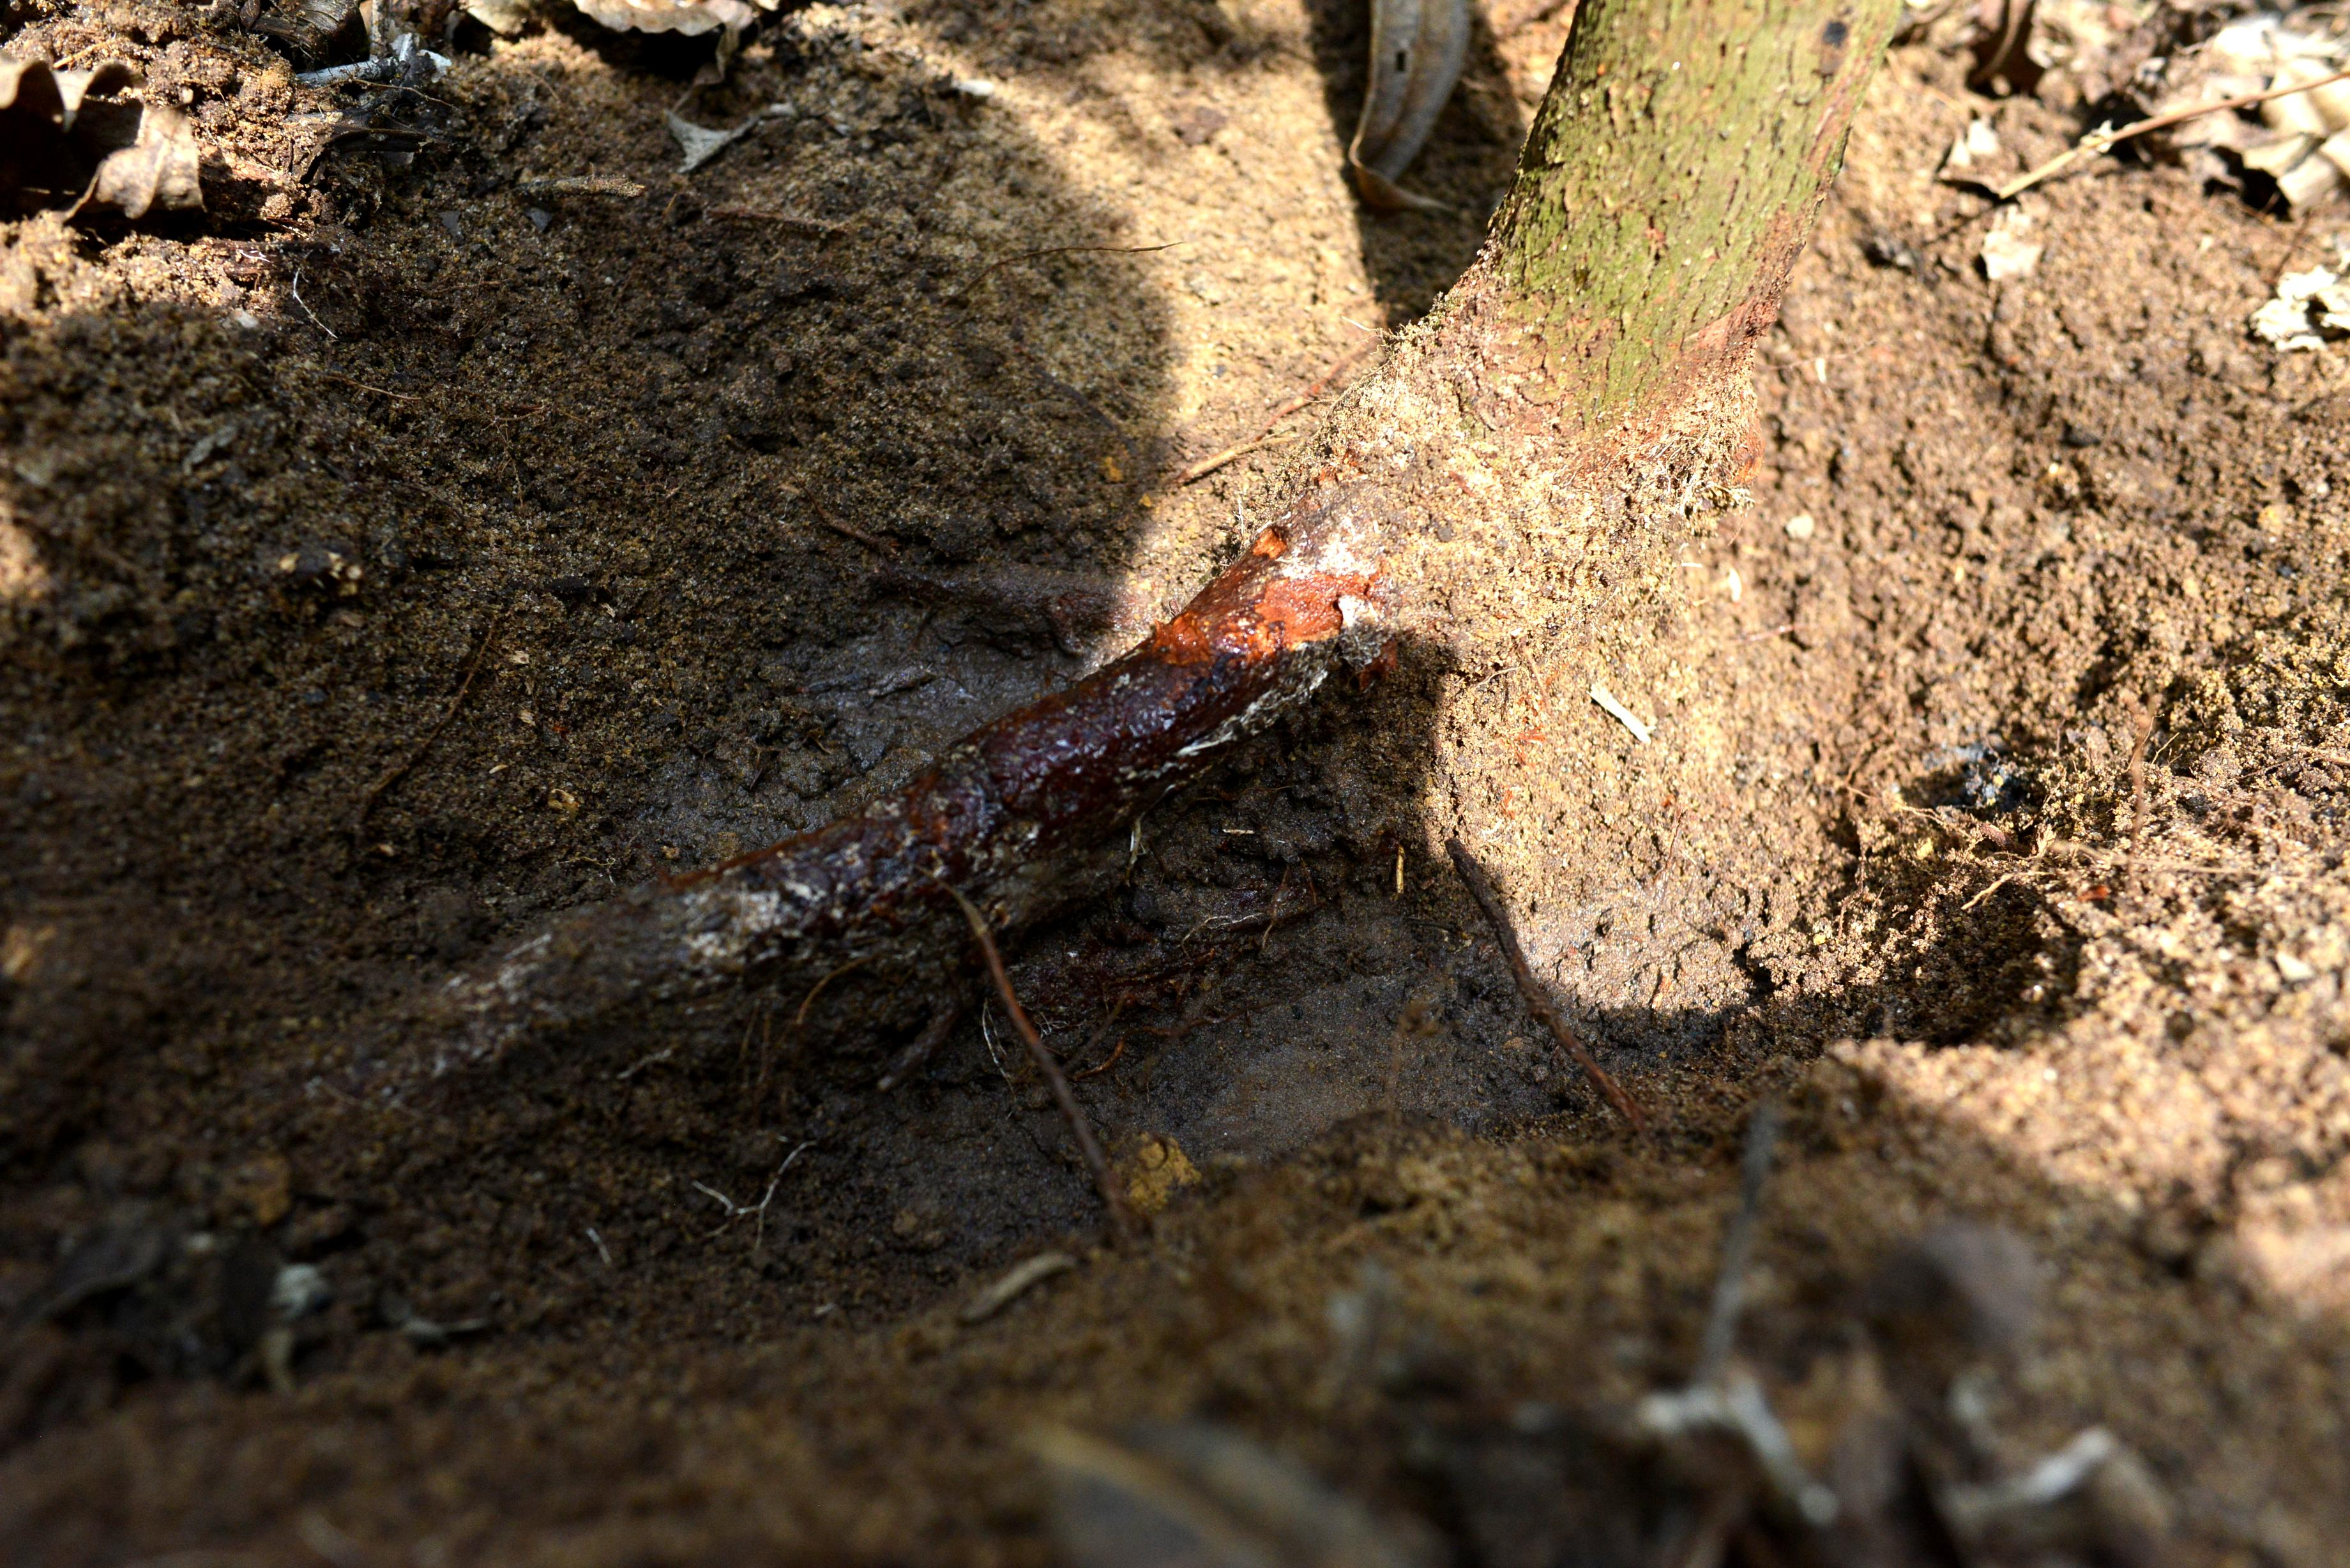Ganoderma - Mycelium: (444, 849, 880, 1010), (311, 922, 567, 1144), (1153, 667, 1318, 789), (1591, 448, 1729, 546), (1370, 352, 1456, 479), (1293, 472, 1389, 574), (1267, 500, 1370, 583), (1333, 598, 1417, 675)
Red Root Rot - Secretion: (901, 586, 1361, 842)
